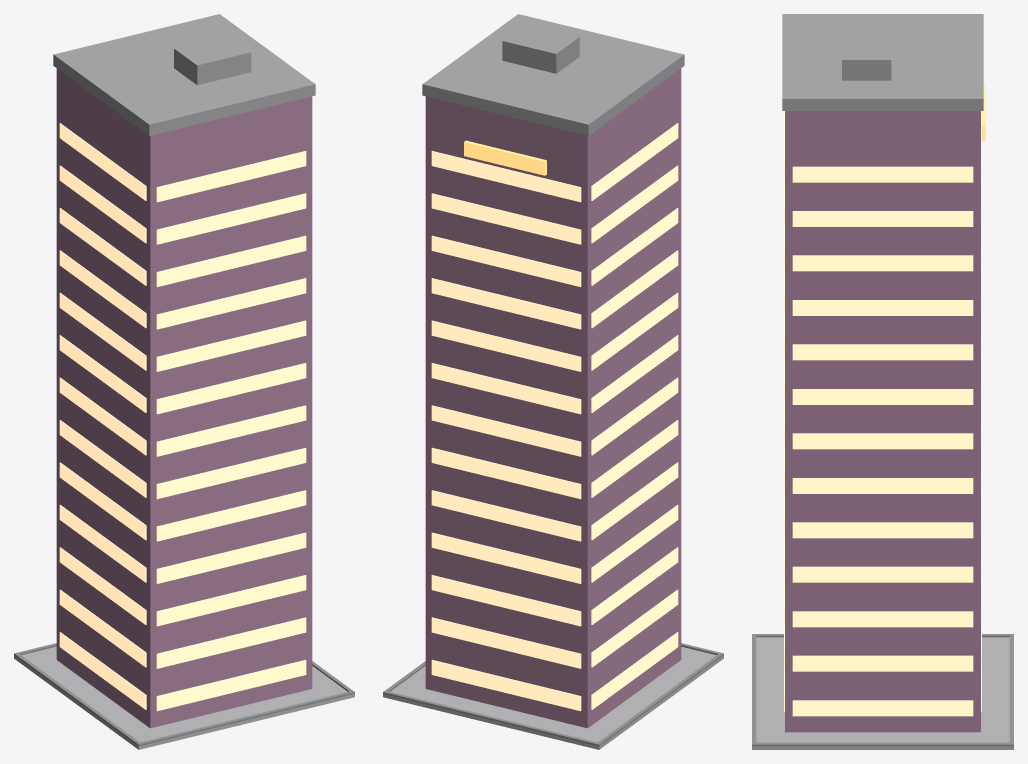
The model's file is bt-commercial-tower-1b.glb.
3 renders of one model, left to right at view 1: azimuth 30°, elevation 25°; view 2: azimuth 150°, elevation 25°; view 3: azimuth 270°, elevation 25°, orthographic. The views are drawn at different scales.
Parts seen in each view (by area): view 1: body, parapet, skirt_slab, roofbox, win_s_8, win_s_2, win_s_3, win_s_0, win_s_4, win_s_5, win_s_9, win_s_1 (+20 smaller); view 2: body, parapet, skirt_slab, roofbox, win_n_8, win_n_2, win_n_3, win_n_0, win_n_4, win_n_5, win_n_9, win_n_1 (+21 smaller); view 3: body, parapet, skirt_slab, win_e_0, win_e_1, win_e_2, win_e_3, win_e_4, win_e_6, win_e_8, win_e_10, win_e_12 (+8 smaller).
Part boxes in pixels (<box>): body: <box>56,68,312,728</box>; parapet: <box>53,14,315,135</box>; skirt_slab: <box>14,646,354,749</box>; roofbox: <box>174,35,251,85</box>; win_s_8: <box>156,320,306,371</box>; win_s_2: <box>156,575,306,626</box>; win_s_3: <box>156,532,306,583</box>; win_s_0: <box>156,659,306,711</box>; win_s_4: <box>156,490,306,541</box>; win_s_5: <box>156,447,306,499</box>; win_s_9: <box>156,278,306,329</box>; win_s_1: <box>156,617,306,668</box>; body: <box>425,68,681,728</box>; parapet: <box>422,14,684,135</box>; skirt_slab: <box>383,646,723,749</box>; roofbox: <box>502,24,579,73</box>; win_n_8: <box>431,320,581,371</box>; win_n_2: <box>431,575,581,626</box>; win_n_3: <box>431,532,581,583</box>; win_n_0: <box>431,659,581,711</box>; win_n_4: <box>431,490,581,541</box>; win_n_5: <box>431,447,581,499</box>; win_n_9: <box>431,278,581,329</box>; win_n_1: <box>431,617,581,668</box>; body: <box>785,111,980,732</box>; parapet: <box>782,14,983,110</box>; skirt_slab: <box>752,637,1013,749</box>; win_e_0: <box>792,700,973,716</box>; win_e_1: <box>792,655,973,671</box>; win_e_2: <box>792,611,973,627</box>; win_e_3: <box>792,566,973,582</box>; win_e_4: <box>792,522,973,538</box>; win_e_6: <box>792,433,973,449</box>; win_e_8: <box>792,344,973,360</box>; win_e_10: <box>792,255,973,271</box>; win_e_12: <box>792,166,973,182</box>.
Bounding box in the file's own units: 16 × 44.45 × 16.
